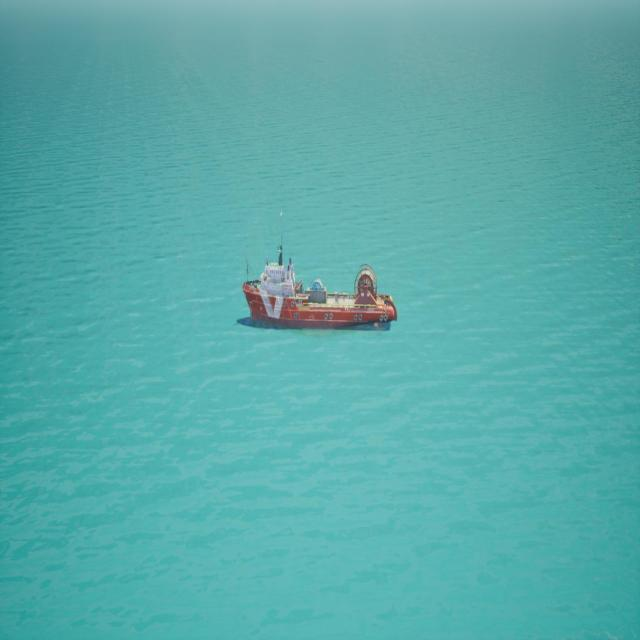tug boat: (239, 212, 402, 337)
